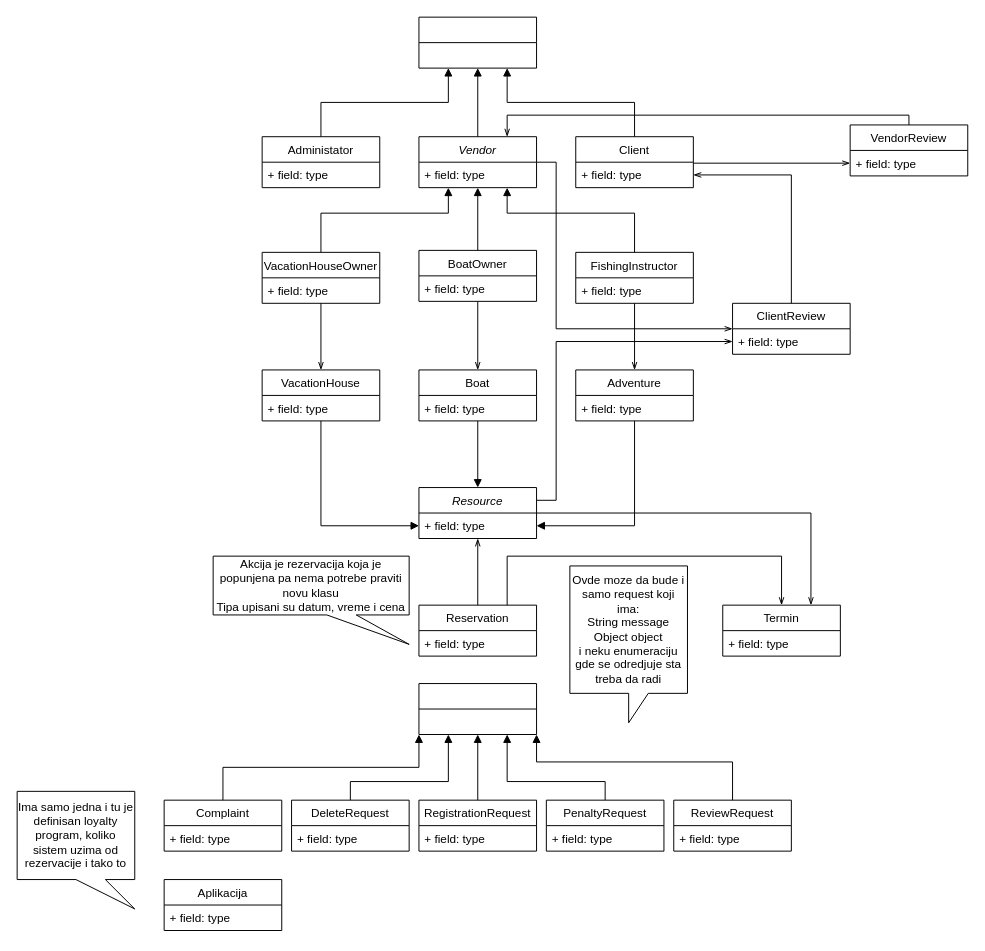
The diagram is 985 pixels wide and 951 high, and some of its shapes have lost their labels. Here are the shapes that lost their labels. From the top down, the centre of each, then its label:
At (x=477, y=42): "User".
At (x=477, y=709): "Request".
